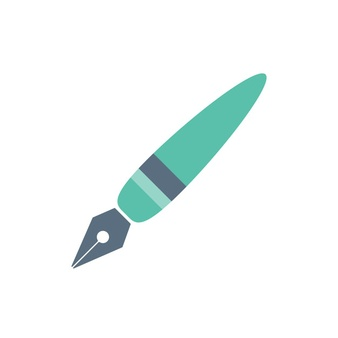Nonrec_Other: (48, 62, 278, 273)
